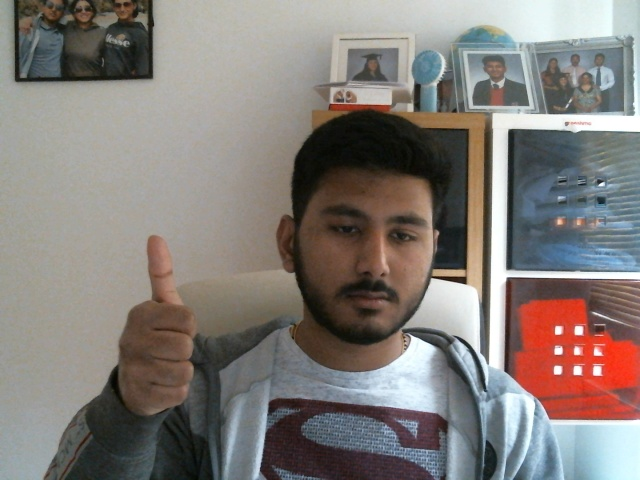good: (110, 235, 193, 408)
